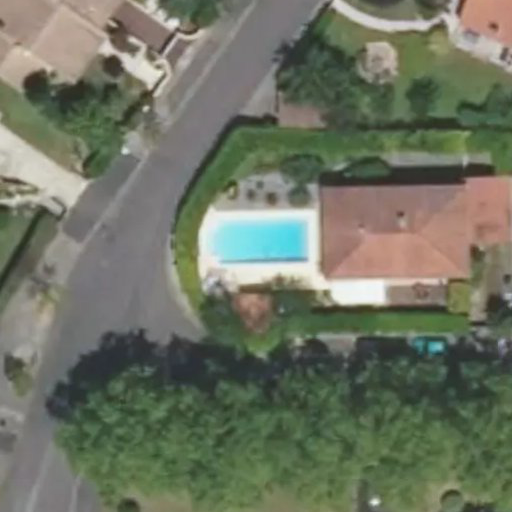pool: (201, 220, 309, 263)
